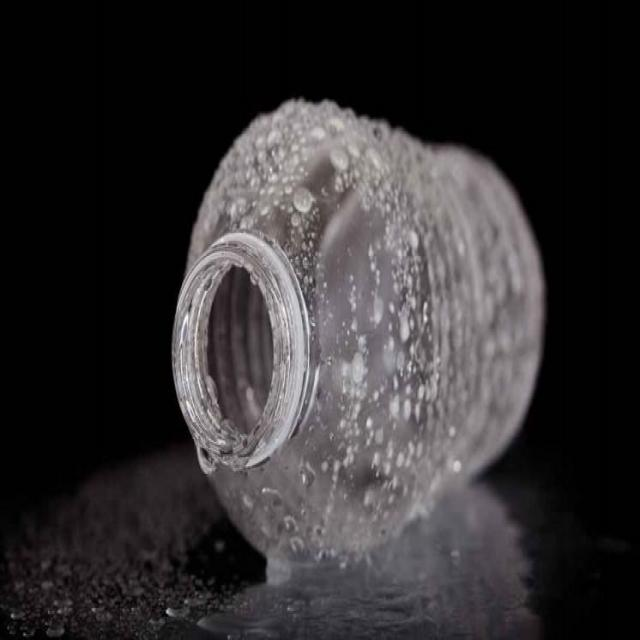bottle: (153, 89, 564, 632)
